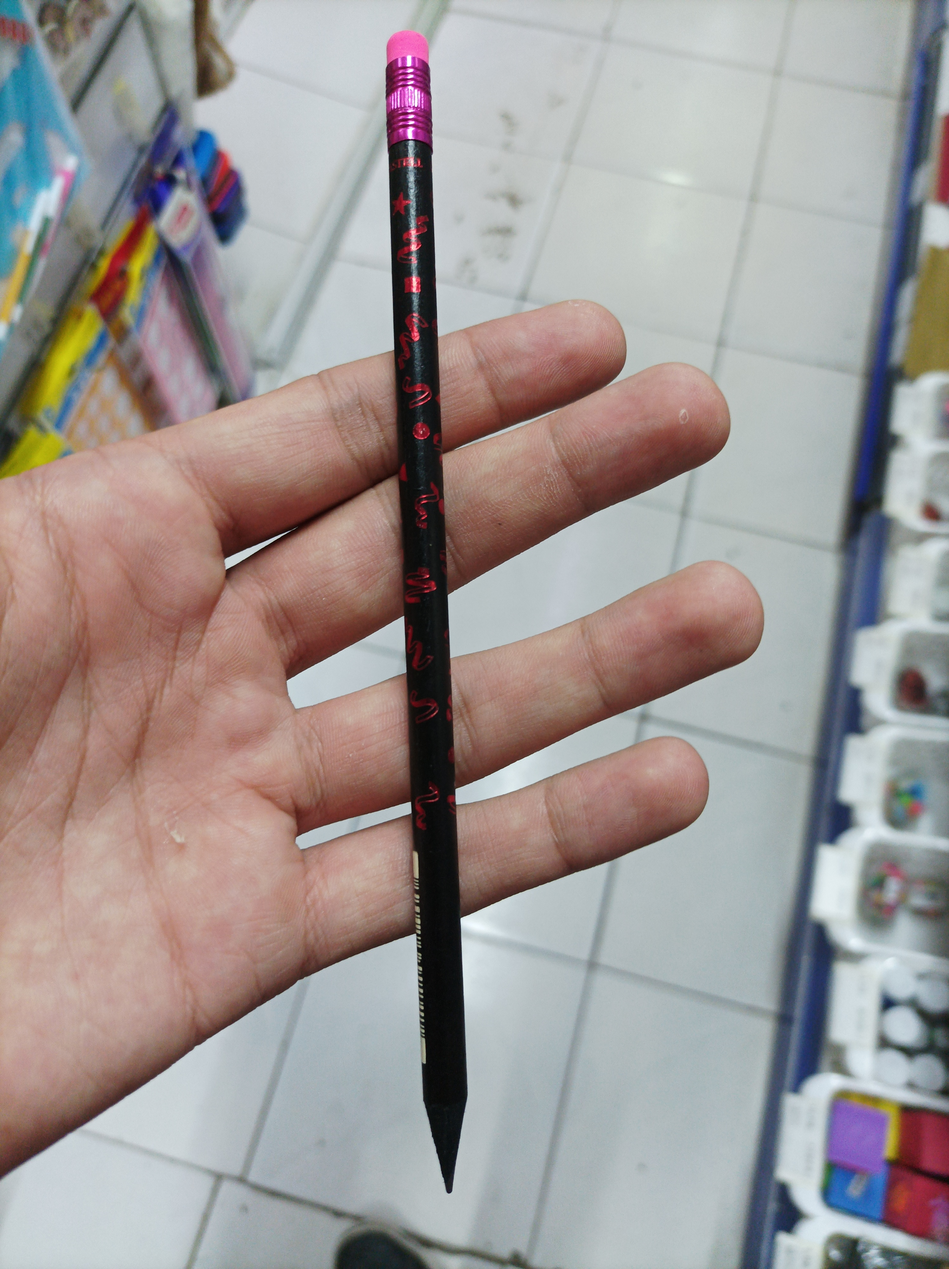plastic: (384, 41, 476, 1212)
